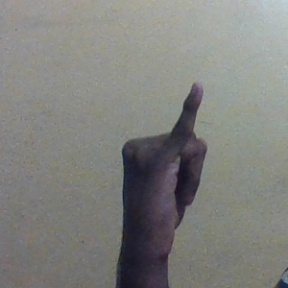I: (120, 76, 211, 238)
